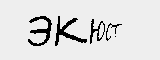К: (52, 17, 86, 45)
С: (103, 19, 112, 41)
Т: (111, 20, 122, 42)
Э: (29, 13, 51, 46)
Ю: (89, 18, 106, 44)
